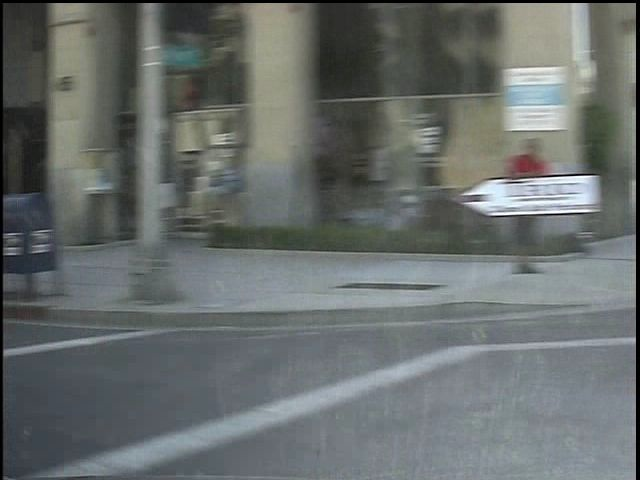person: (490, 129, 533, 282)
